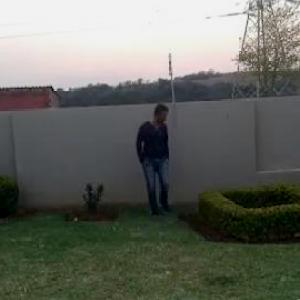follow: (134, 97, 173, 222)
